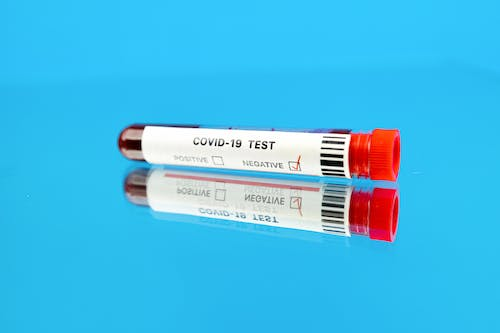blood: (116, 121, 352, 162), (122, 166, 150, 207)
